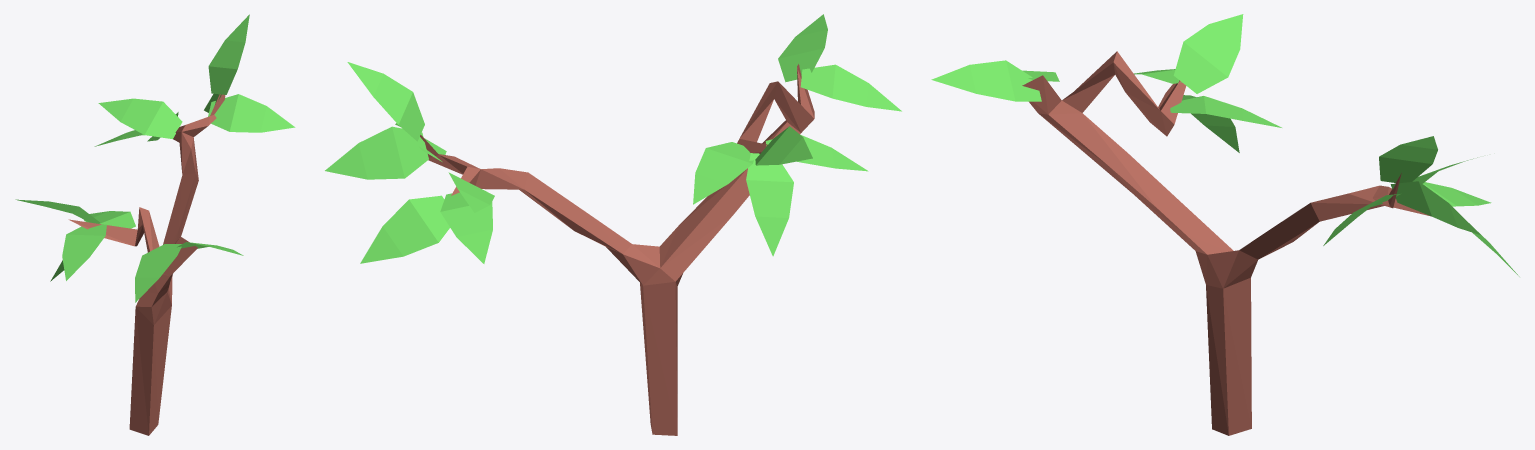
Rendered from Feet.fbx.
3 views of the same model, side by side, from view 1: azimuth 30°, elevation 25°; view 2: azimuth 150°, elevation 25°; view 3: azimuth 270°, elevation 25° (orthographic). The views are drawn at different scales.
Parts seen in each view (by area): view 1: Deaf; view 2: Deaf; view 3: Deaf.
Boxes of the visible parts, box(x1,y1,x2,y2) form: Deaf: box(15, 14, 295, 435); Deaf: box(325, 14, 901, 435); Deaf: box(931, 14, 1519, 435).
Size of the model in its own units: 0.4096 by 0.3956 by 0.5135.
